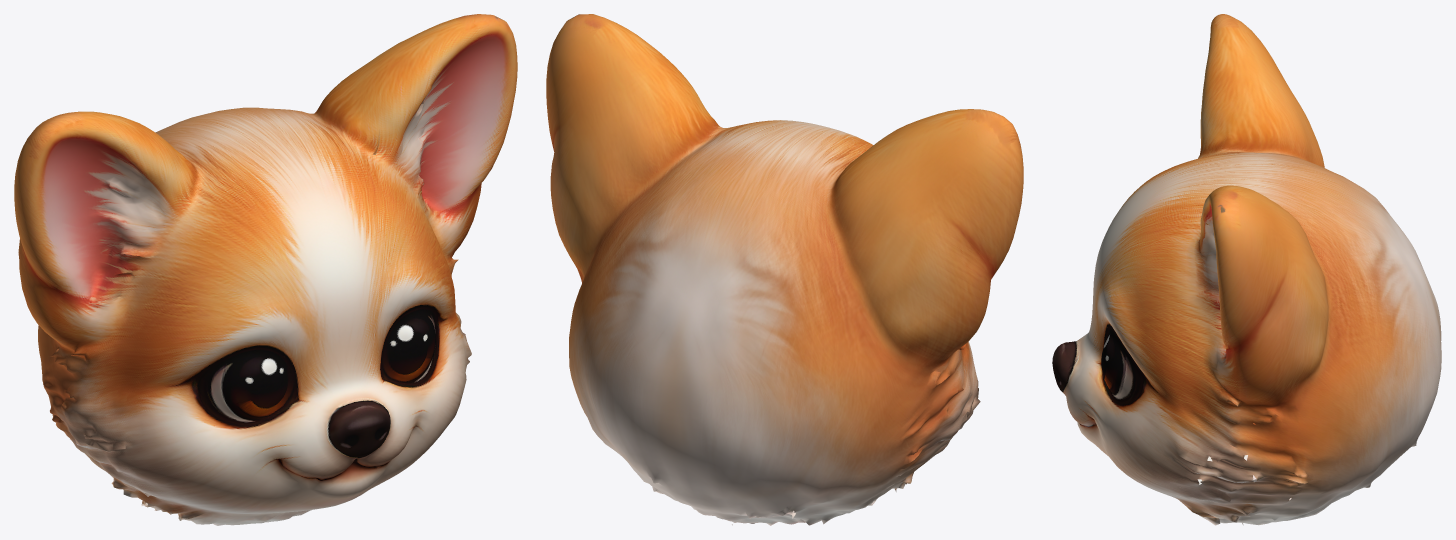
Rendered from randy.glb.
3 renders of one model, left to right at view 1: azimuth 30°, elevation 25°; view 2: azimuth 150°, elevation 25°; view 3: azimuth 270°, elevation 25°, orthographic. The views are drawn at different scales.
Parts seen in each view (by area): view 1: mesh1; view 2: mesh1; view 3: mesh1.
Boxes of the visible parts, x1,y1,x2,y2 form: mesh1: [14, 14, 517, 525]; mesh1: [546, 14, 1023, 525]; mesh1: [1052, 14, 1441, 525].
Bounding box in the file's own units: 0.5814 × 0.5135 × 0.45.
Materials: 1 (1 with a texture image).
